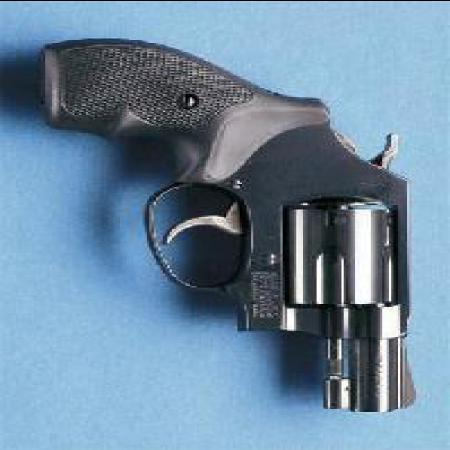Pistol: (38, 37, 428, 411)
